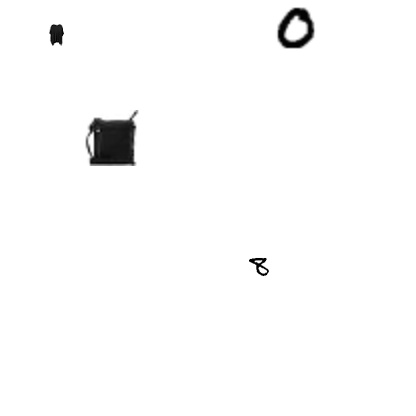0: (266, 0, 322, 56)
8: (245, 251, 273, 279)
Bag: (84, 110, 140, 166)
T-shirt/top: (45, 24, 67, 46)
